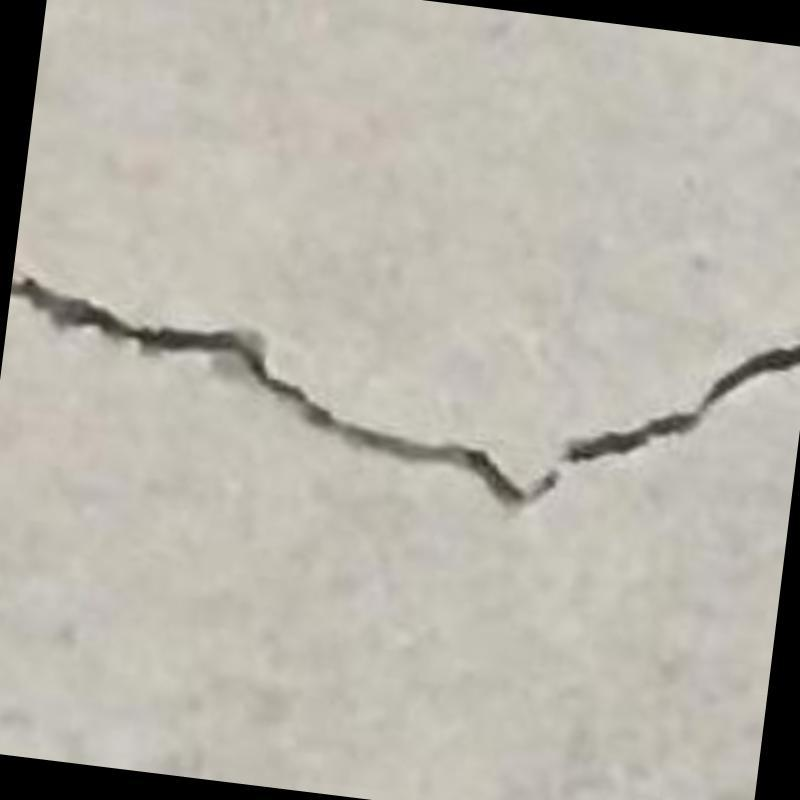crack: (10, 278, 800, 518)
